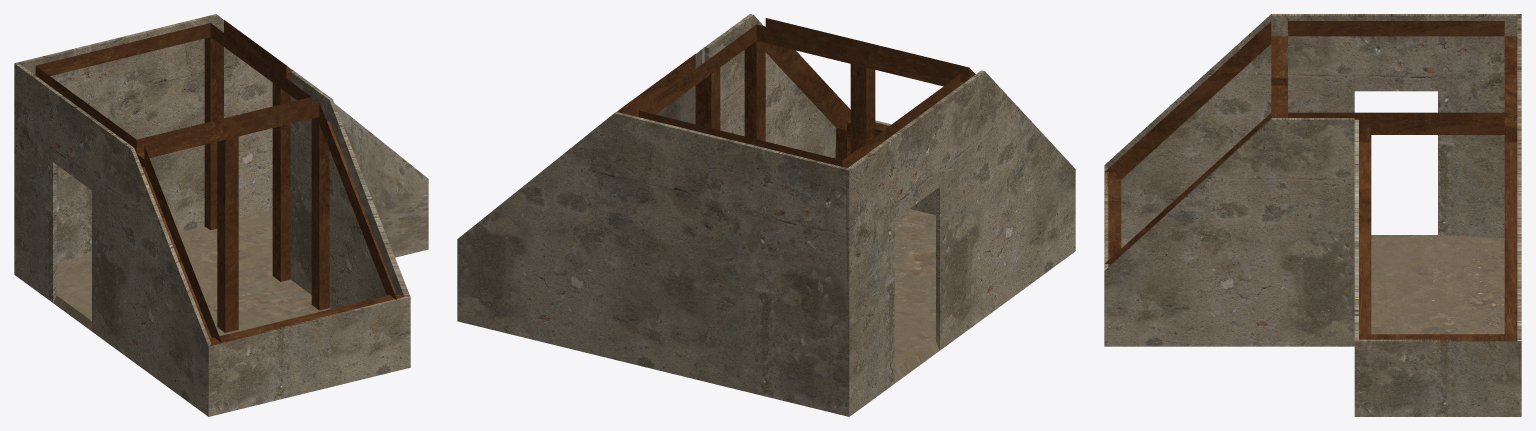
The model's file is attics.glb.
3 renders of one model, left to right at view 1: azimuth 30°, elevation 25°; view 2: azimuth 150°, elevation 25°; view 3: azimuth 270°, elevation 25°, orthographic. The views are drawn at different scales.
Parts seen in each view (by area): view 1: Plane, Cube, Plane.001; view 2: Plane, Cube, Plane.001; view 3: Plane, Cube, Plane.001.
Boxes of the visible parts, x1=… form: Plane: x1=14, y1=14, x2=428, y2=416; Cube: x1=34, y1=20, x2=403, y2=346; Plane.001: x1=292, y1=69, x2=428, y2=257; Plane: x1=457, y1=14, x2=1075, y2=416; Cube: x1=617, y1=18, x2=975, y2=167; Plane.001: x1=656, y1=47, x2=704, y2=124; Plane: x1=1104, y1=14, x2=1521, y2=416; Cube: x1=1104, y1=21, x2=1517, y2=341; Plane.001: x1=1354, y1=119, x2=1358, y2=341.
Bounding box in the file's own units: 5 × 3 × 5.
3 materials, 3 textured.
